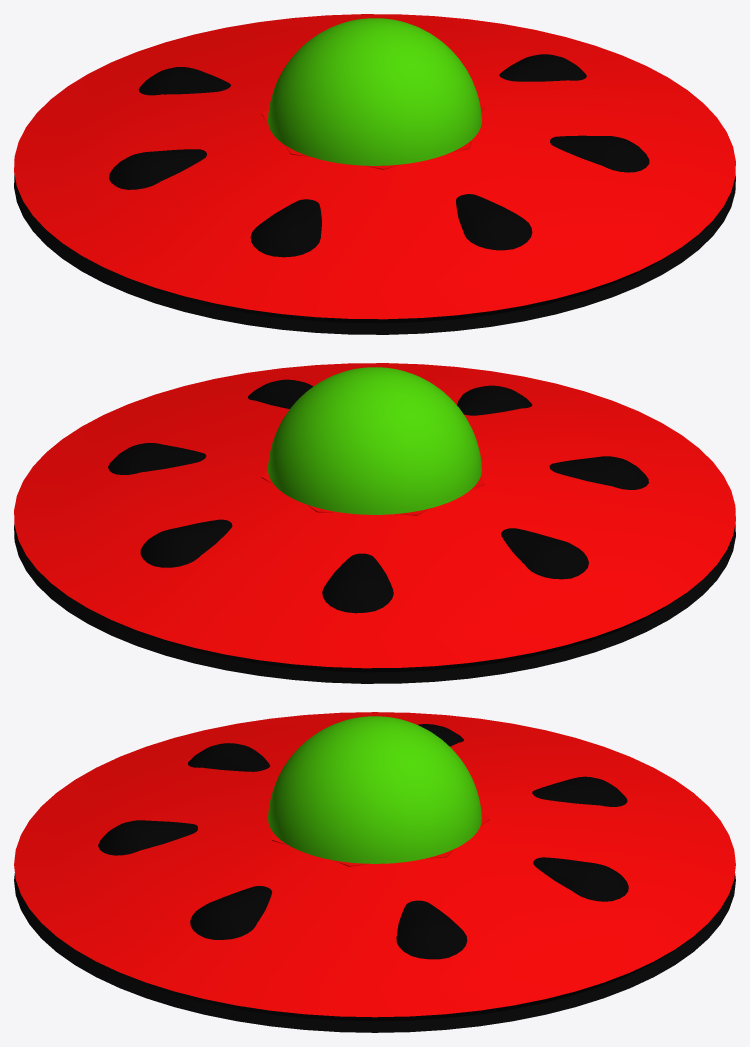
The model's file is UFO 1.fbx.
3 views of the same model, one above another, from view 1: azimuth 30°, elevation 25°; view 2: azimuth 150°, elevation 25°; view 3: azimuth 270°, elevation 25° (orthographic).
Parts seen in each view (by area): view 1: UFO; view 2: UFO; view 3: UFO.
Part boxes in pixels (x1,y1,x2,y2): UFO: [14, 14, 735, 334]; UFO: [14, 363, 735, 683]; UFO: [14, 712, 735, 1032].
Bounding box in the file's own units: 1200 × 385 × 1200.
